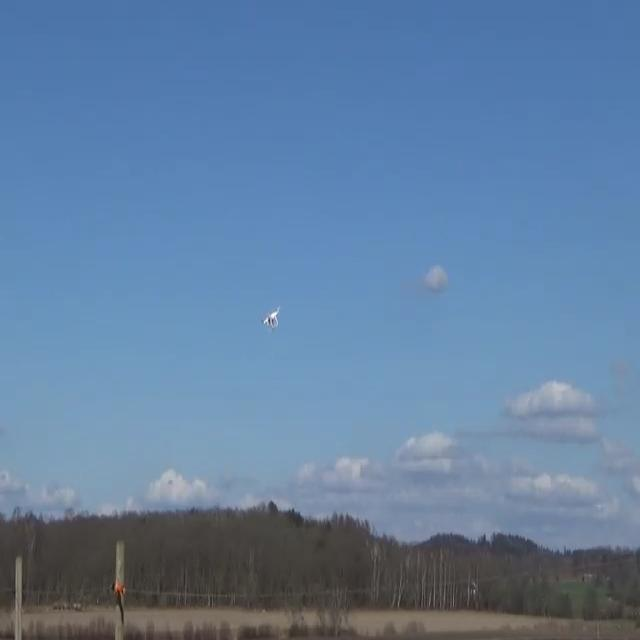Drone: (251, 298, 290, 340)
